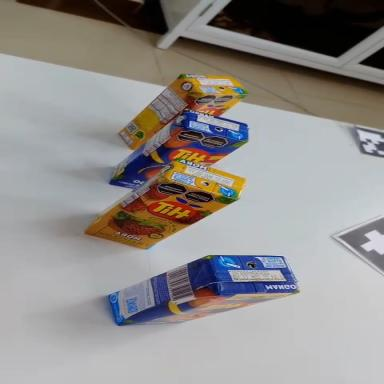HIT-MANGO: (99, 87, 254, 220), (104, 236, 300, 339)
HIT-MORA: (75, 135, 252, 271), (107, 54, 251, 153)
cara_F: (79, 152, 238, 272), (106, 104, 247, 217), (117, 275, 297, 339), (187, 93, 247, 117)
